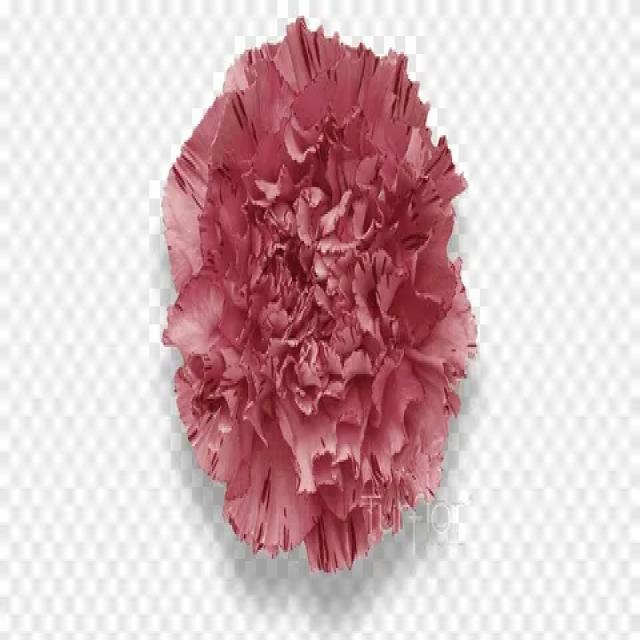carnation: (154, 8, 486, 572)
